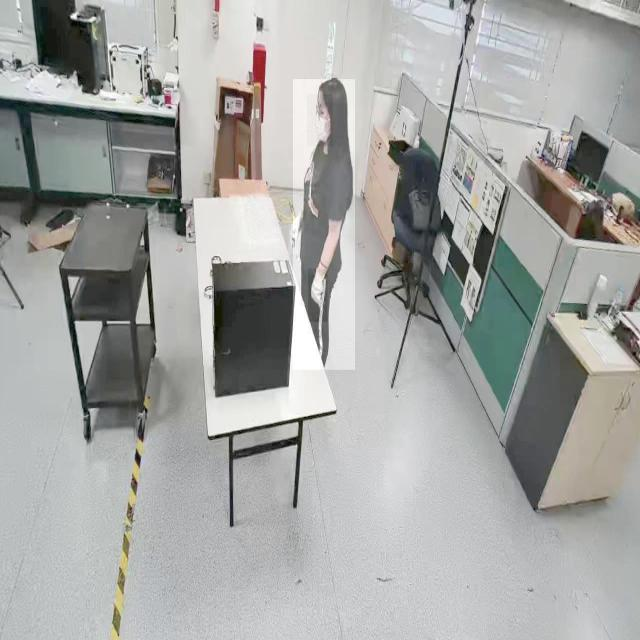face_mask: (307, 94, 333, 147)
hand_glove: (308, 268, 328, 322), (289, 217, 301, 255)
head_nohelmet: (316, 76, 346, 97)
person: (293, 79, 355, 371)
